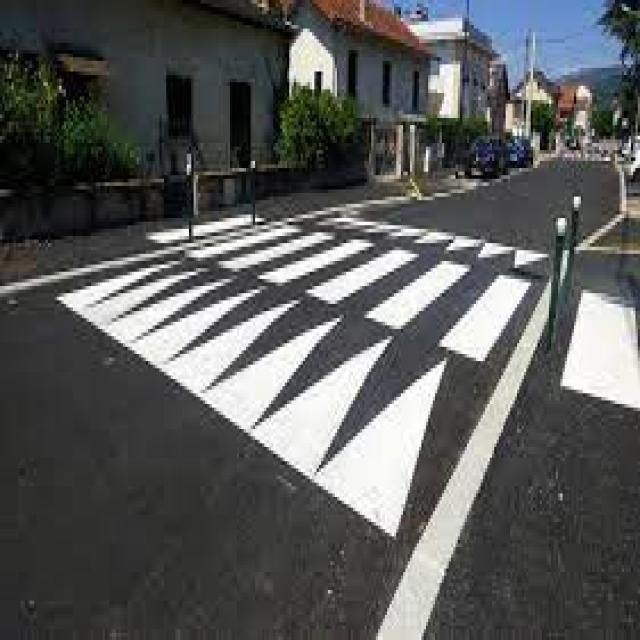crosswalk: (172, 223, 548, 378)
